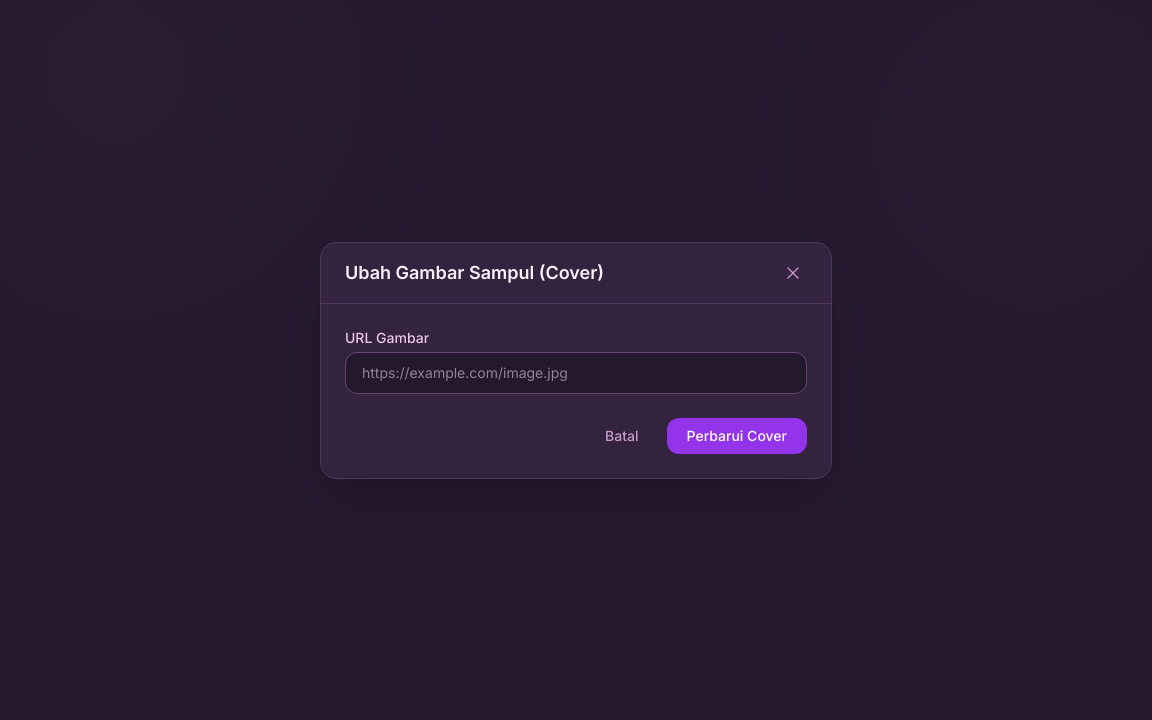
Scenario: ChangeCoverModal › memakai pesan default bila error tanpa message
The width and height of the screenshot is (1152, 720).
Type "https://img.test/a.png" into the field labelled "URL Gambar" at (576, 372), box [345,352,807,394]
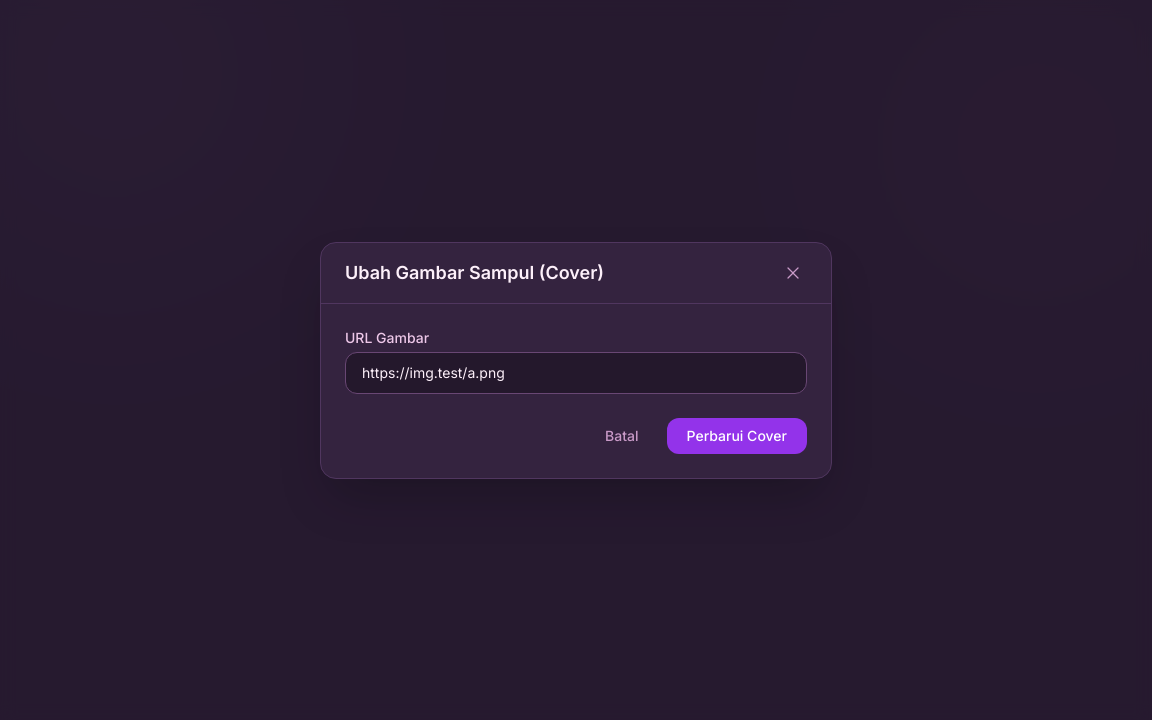
Submit the form, box [345,328,807,454]
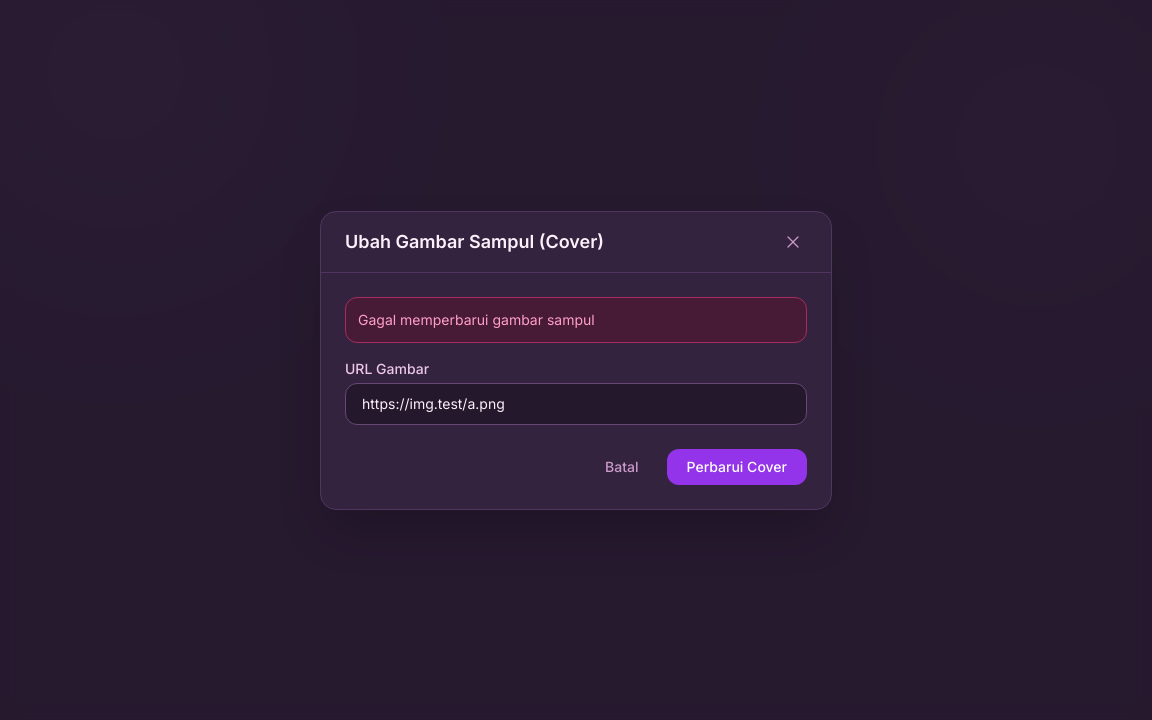
Expected: the message reads "Gagal memperbarui gambar sampul", [358,310,595,328]
